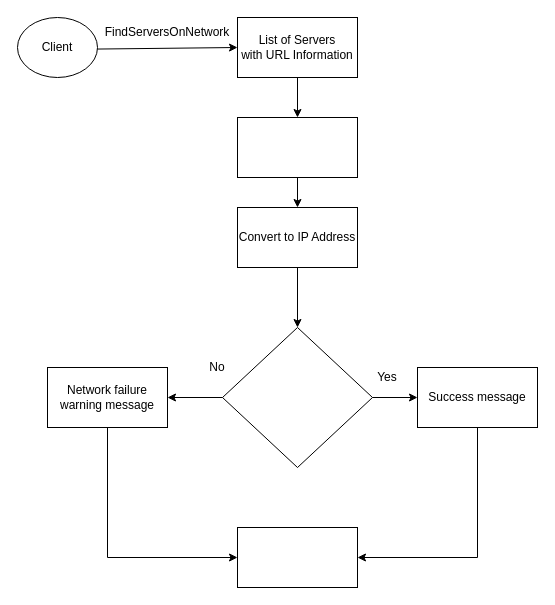
Some shapes in this 555 by 605 pixel diagram are drawn without their labels. The shapes that lost their labels are listed below. From the top down, each one's box as (x1, y1, x2, y2) in pixels, then its label:
(236, 116, 358, 178): Extract Hostname from URL
(222, 326, 372, 468): Connect to IP (except its own LDS-ME)
(236, 526, 358, 588): End
